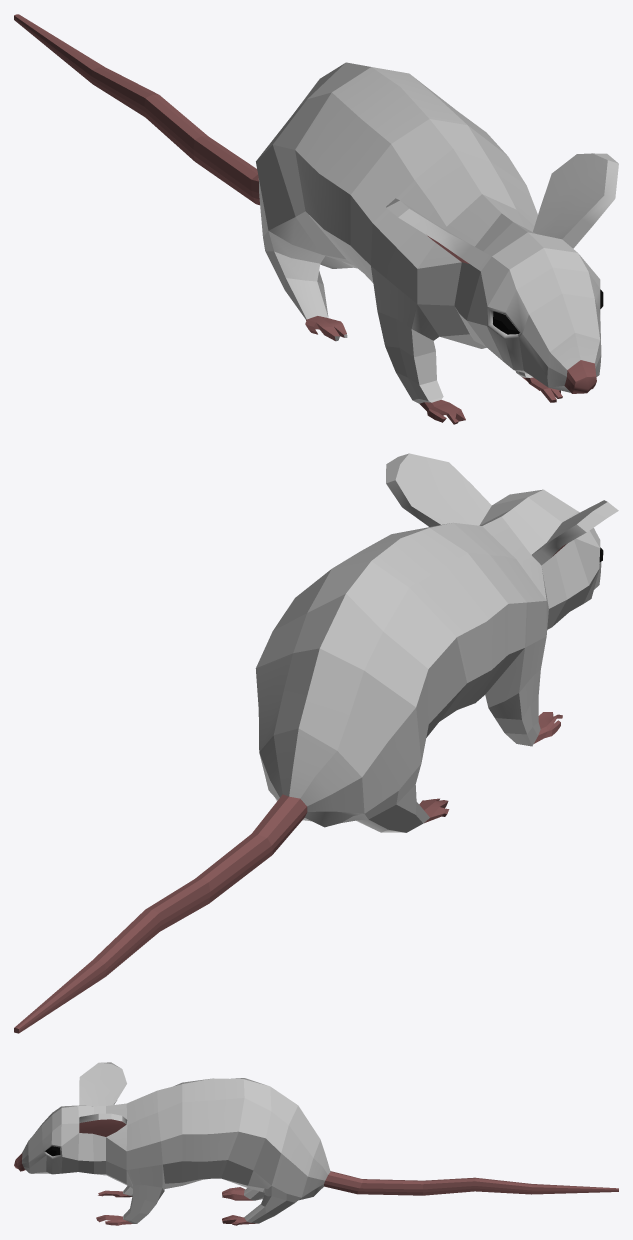
The model's file is rat_model.fbx.
3 renders of one model, top to bottom at view 1: azimuth 30°, elevation 25°; view 2: azimuth 150°, elevation 25°; view 3: azimuth 270°, elevation 25°, orthographic. The views are drawn at different scales.
Parts seen in each view (by area): view 1: rat; view 2: rat; view 3: rat.
Boxes of the visible parts, left/top/right/bottom form: rat: left=14, top=14, right=618, bottom=424; rat: left=14, top=453, right=618, bottom=1033; rat: left=14, top=1062, right=618, bottom=1225.
Bounding box in the file's own units: 2.78 × 3.03 × 12.47.
